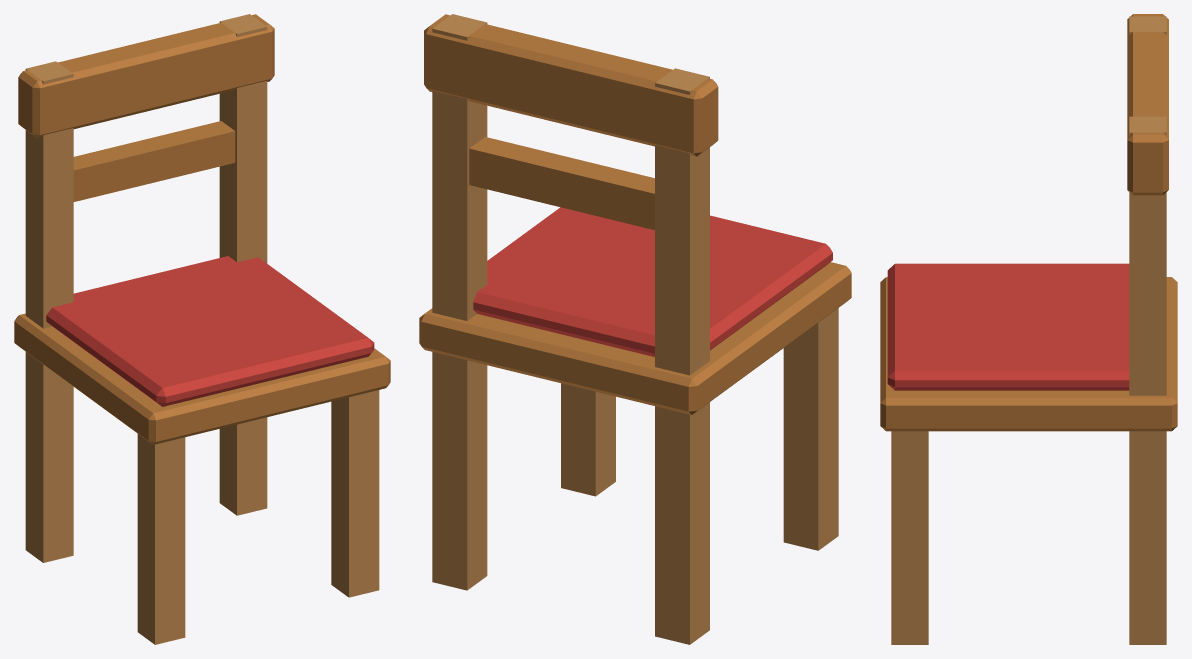
The model's file is FUR_Chair_Frac.fbx.
The picture shows the model from 3 angles, left to right: view 1: azimuth 30°, elevation 25°; view 2: azimuth 150°, elevation 25°; view 3: azimuth 270°, elevation 25°; orthographic projection. The views are drawn at different scales.
Parts seen in each view (by area): view 1: FUR_Chair_Frac_1, FUR_Chair_Frac_3, FUR_Chair_Frac_2, FUR_Chair_Frac_4; view 2: FUR_Chair_Frac_1, FUR_Chair_Frac_2, FUR_Chair_Frac_4, FUR_Chair_Frac_3; view 3: FUR_Chair_Frac_3, FUR_Chair_Frac_2, FUR_Chair_Frac_1, FUR_Chair_Frac_4.
Boxes of the visible parts, bbox=[...] form: FUR_Chair_Frac_1: bbox=[25, 304, 273, 644]; FUR_Chair_Frac_3: bbox=[219, 226, 390, 597]; FUR_Chair_Frac_2: bbox=[78, 14, 274, 353]; FUR_Chair_Frac_4: bbox=[14, 57, 185, 367]; FUR_Chair_Frac_1: bbox=[465, 218, 851, 644]; FUR_Chair_Frac_2: bbox=[424, 14, 654, 368]; FUR_Chair_Frac_4: bbox=[530, 64, 727, 435]; FUR_Chair_Frac_3: bbox=[419, 207, 719, 589]; FUR_Chair_Frac_3: bbox=[880, 311, 1177, 644]; FUR_Chair_Frac_2: bbox=[930, 41, 1177, 366]; FUR_Chair_Frac_1: bbox=[880, 263, 1084, 339]; FUR_Chair_Frac_4: bbox=[1065, 14, 1177, 349].
Size of the model in its own units: 2 by 3.8 by 2.
